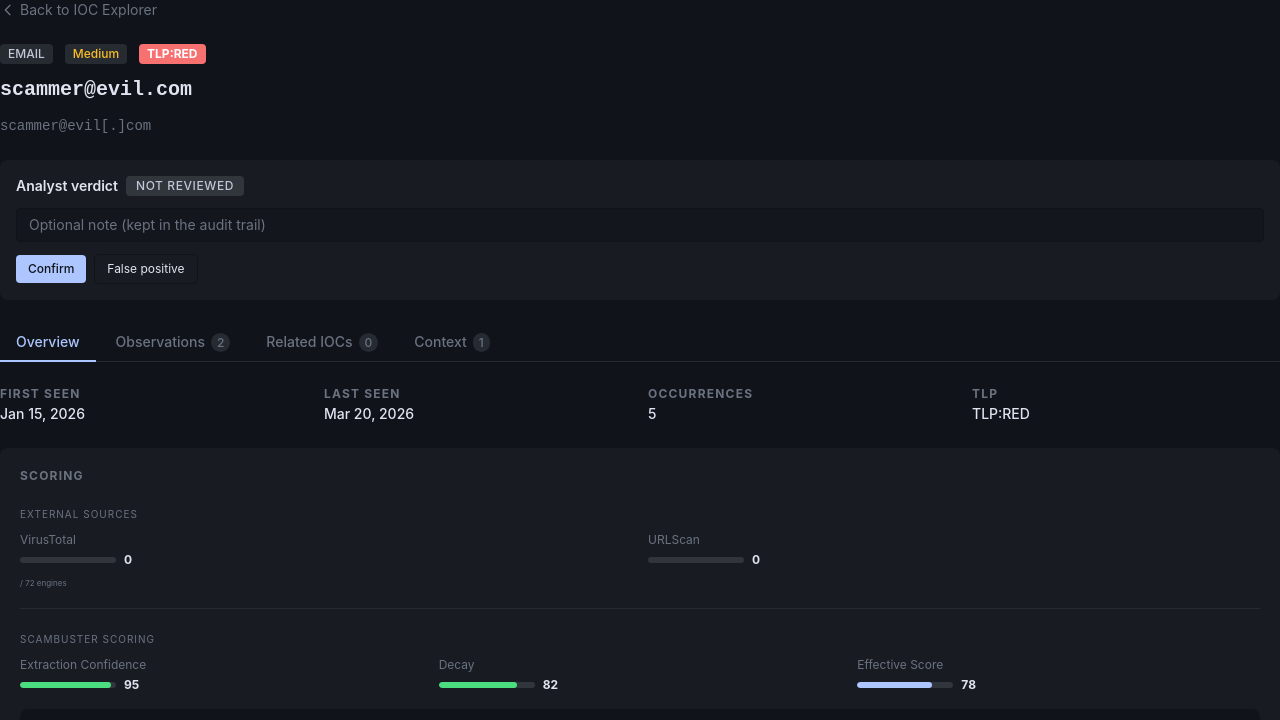
IocDetail — coverage gaps › renders context tab with failed status and co-revealed types
The image size is (1280, 720).
Expected: the heading "scammer@evil.com" is shown, x1=0 y1=78 x2=192 y2=101
Click the button "Context1" at (452,343), box x1=398 y1=324 x2=506 y2=362
(page scrolled)
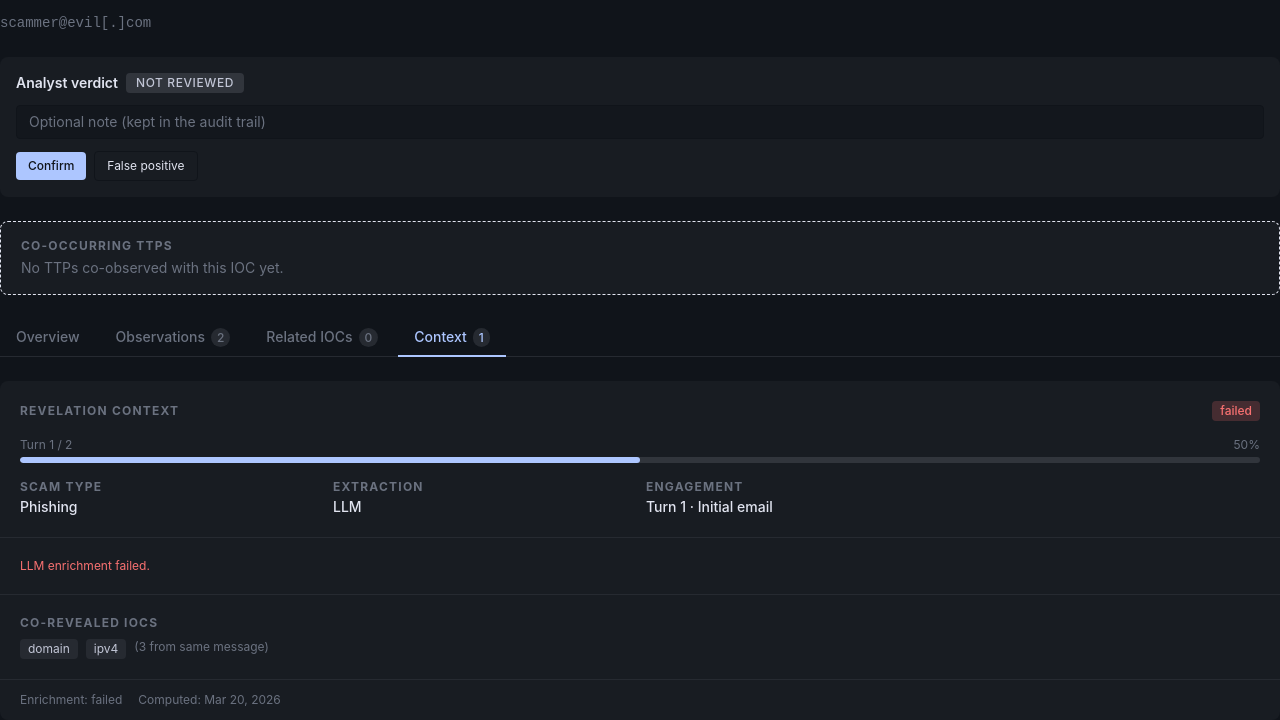
Result: the text "failed" is shown at x1=1212 y1=401 x2=1260 y2=421
Result: the text "domain" is shown at x1=20 y1=639 x2=78 y2=659
Result: the text "ipv4" is shown at x1=86 y1=639 x2=126 y2=659
